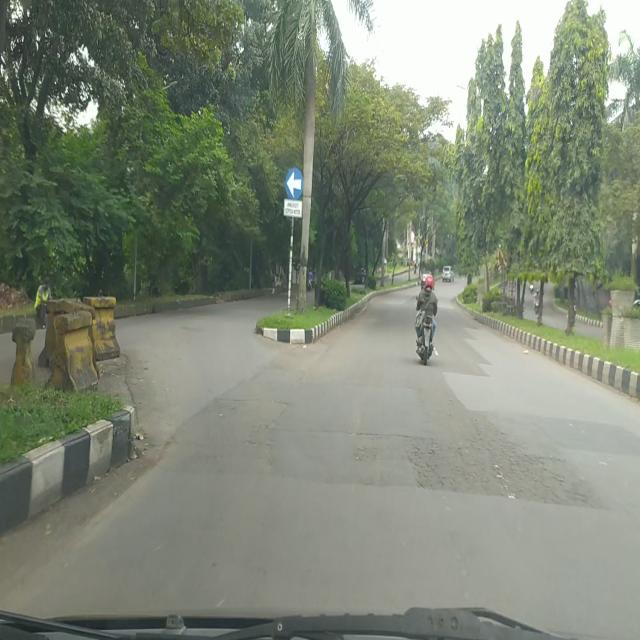Drain Hole: (405, 437, 587, 505)
